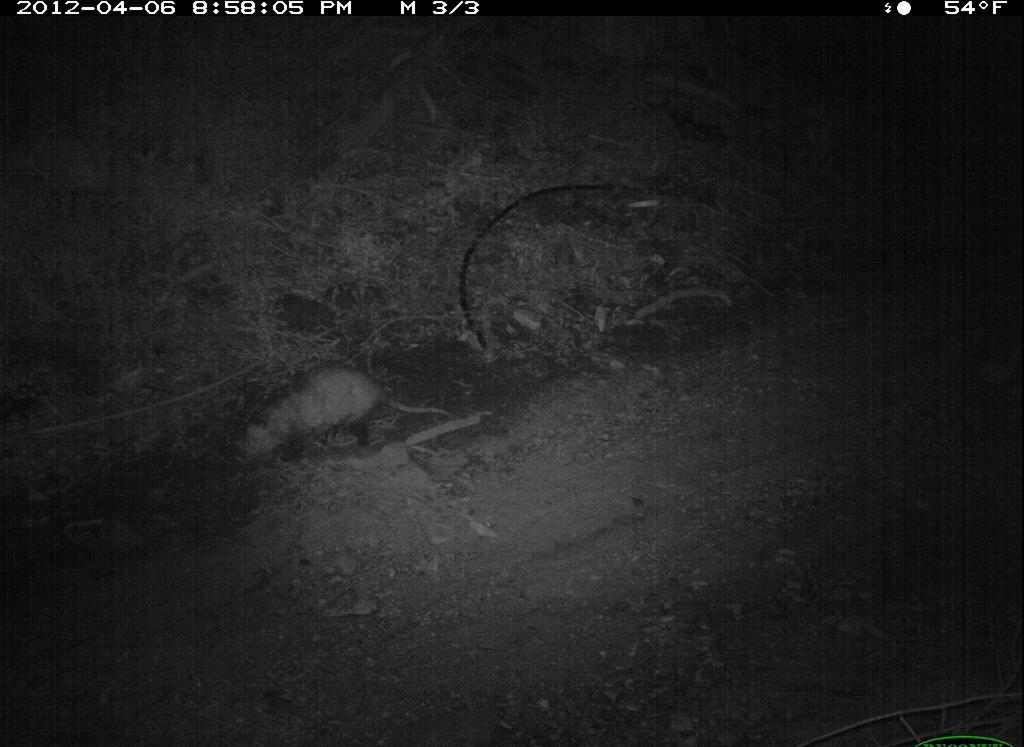opossum: (228, 355, 459, 466)
